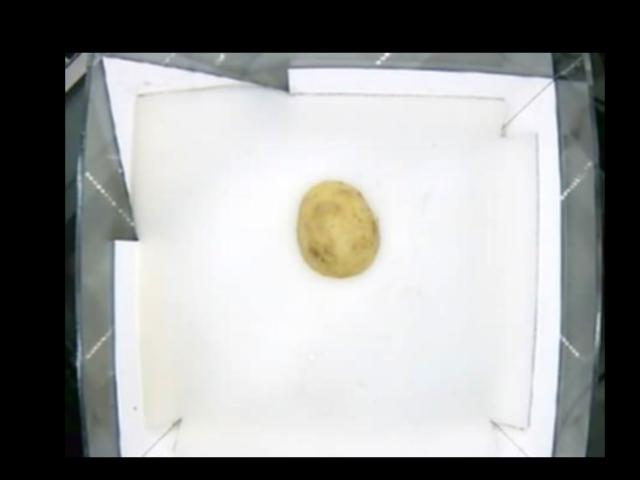Potato: (295, 179, 381, 281)
